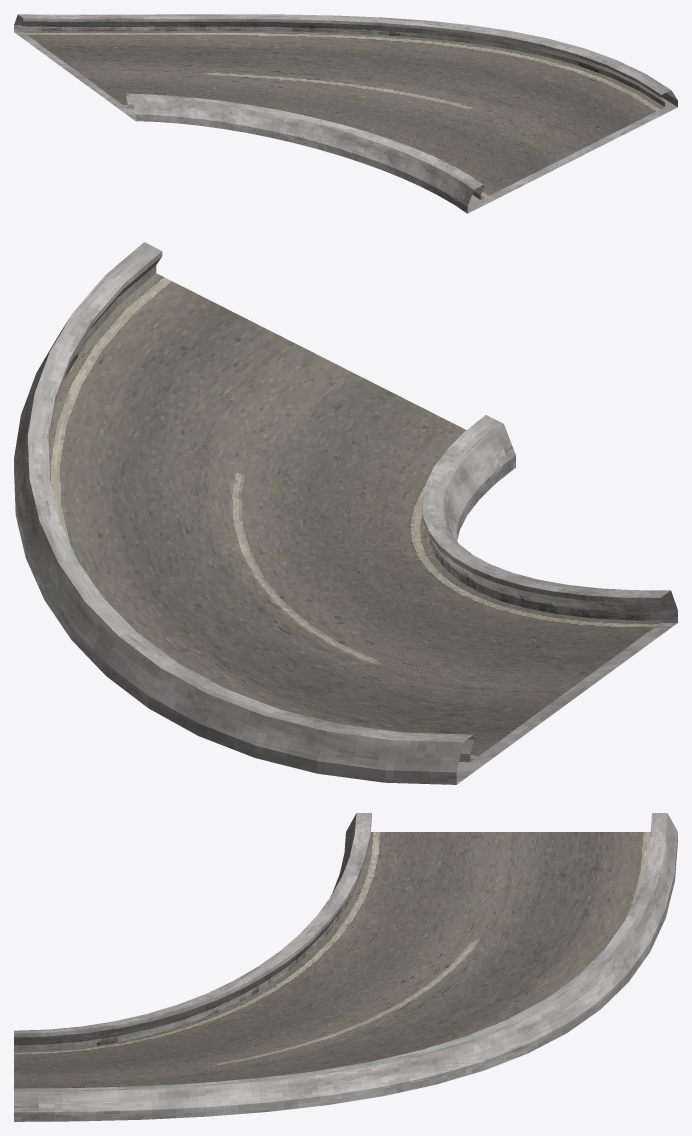
The model's file is turn-left2x2.glb.
3 views of the same model, one above another, from view 1: azimuth 30°, elevation 25°; view 2: azimuth 150°, elevation 25°; view 3: azimuth 270°, elevation 25° (orthographic). The views are drawn at different scales.
Visible parts, largest first — view 1: road-Turn-HalfBankedLeft-BiSlopeUp-Up1-Left-Size2; view 2: road-Turn-HalfBankedLeft-BiSlopeUp-Up1-Left-Size2; view 3: road-Turn-HalfBankedLeft-BiSlopeUp-Up1-Left-Size2.
Boxes of the visible parts, x1,y1,x2,y2 form: road-Turn-HalfBankedLeft-BiSlopeUp-Up1-Left-Size2: (14,14,677,213); road-Turn-HalfBankedLeft-BiSlopeUp-Up1-Left-Size2: (14,242,677,784); road-Turn-HalfBankedLeft-BiSlopeUp-Up1-Left-Size2: (14,813,677,1121).
Bounding box in the file's own units: 2 × 0.3437 × 2.
2 materials, 2 textured.
